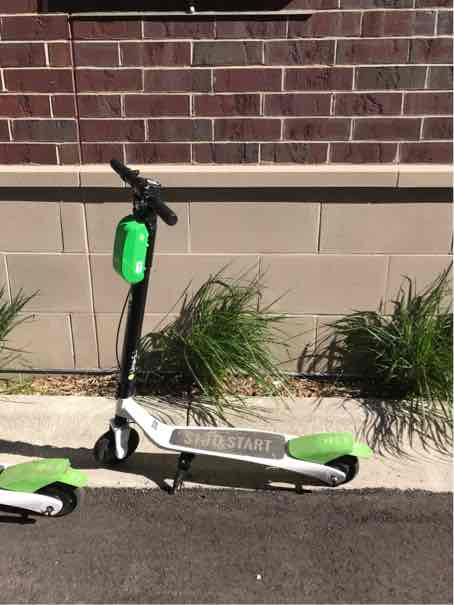scooter: (80, 155, 366, 505)
